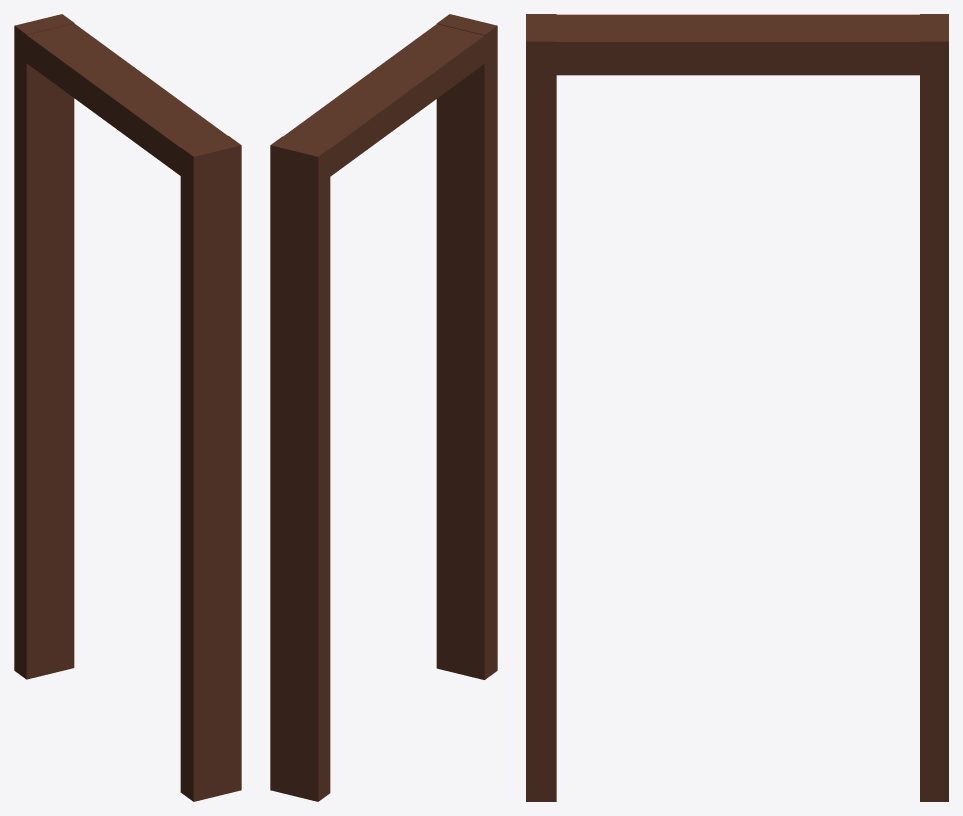
File: DoorFrame.glb
The picture shows the model from 3 angles, left to right: view 1: azimuth 30°, elevation 25°; view 2: azimuth 150°, elevation 25°; view 3: azimuth 270°, elevation 25°; orthographic projection. The views are drawn at different scales.
Parts seen in each view (by area): view 1: NewFrame; view 2: NewFrame; view 3: NewFrame.
Part boxes in pixels (<box>): NewFrame: <box>14,14,241,801</box>; NewFrame: <box>270,14,497,801</box>; NewFrame: <box>526,14,948,801</box>.
Size of the model in its own units: 0.1704 by 2.2 by 1.11.
Materials: 1 (1 with a texture image).
